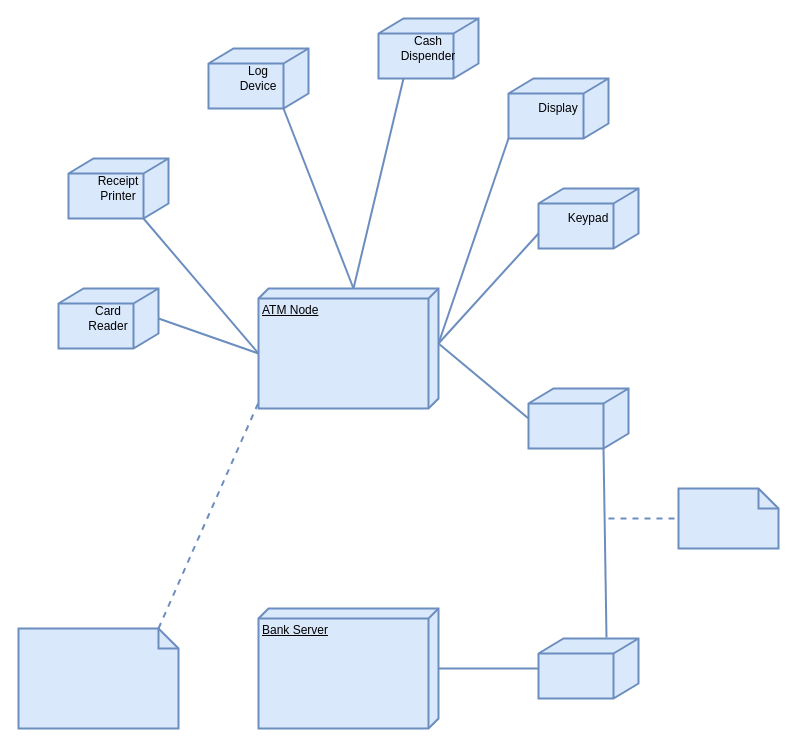
Some shapes in this 796 by 746 pixel diagram are drawn without their labels. Here are the shapes that lost their labels. From the top down, the centre of each, then its label:
At pixel 578 418: "Network Interface".
At pixel 728 518: "T1 network connection".
At pixel 98 678: "Processor: 200Mhz Pentium Memory:64MB".
At pixel 588 668: "New Device".
